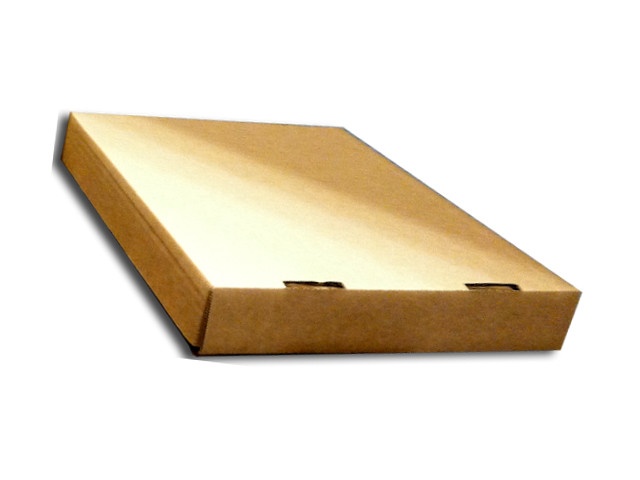cardboard: (55, 113, 581, 353)
